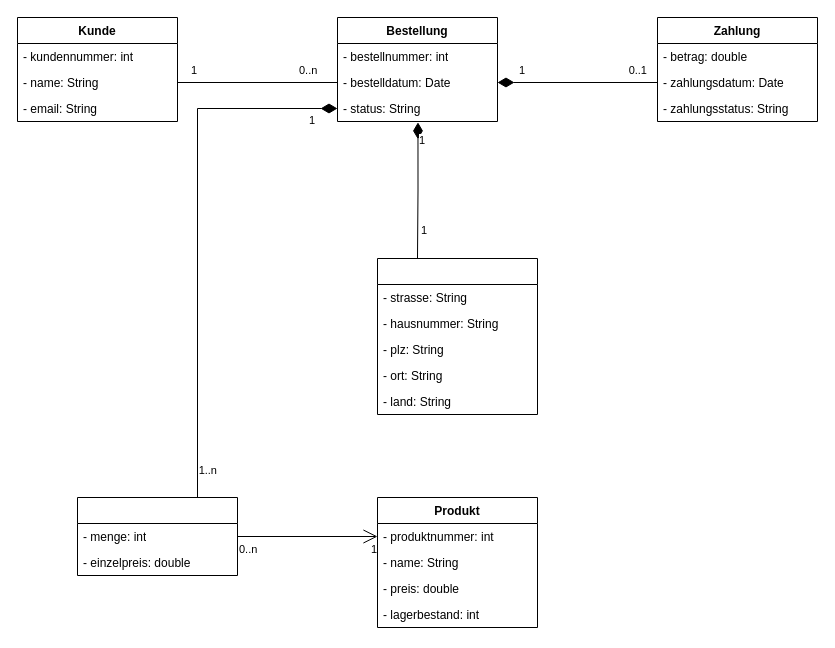
Image size: 835x648. Some labels were removed from this diagram. Here are the shapes that lost their labels. From the top down, the box of each, then its label:
(376, 258, 538, 414): Lieferadresse
(76, 496, 238, 576): Bestellposition
